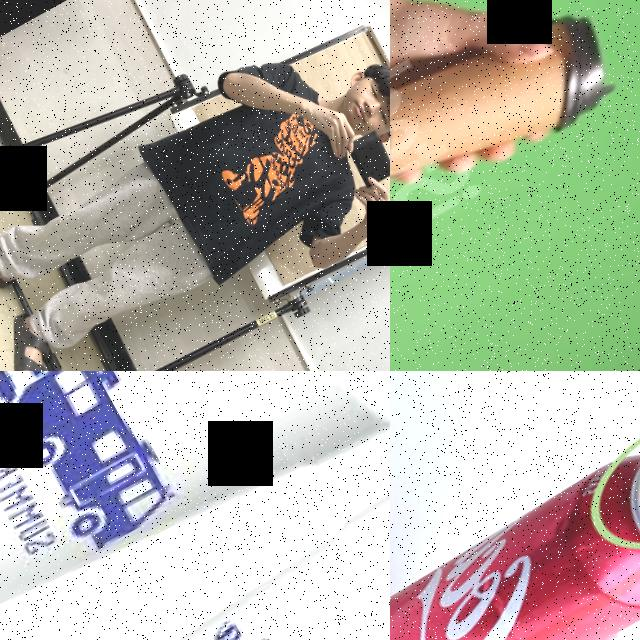can: (390, 371, 640, 640)
cup: (0, 371, 390, 640), (0, 441, 390, 640), (390, 0, 626, 224)
